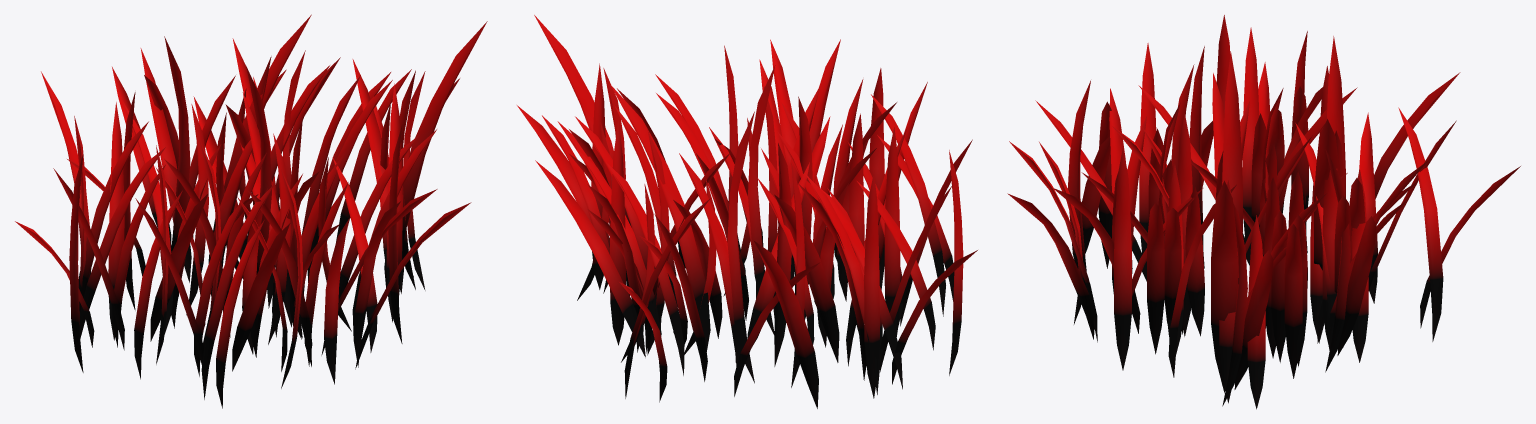
The model's file is SM_Grass_Sub_Short.fbx.
3 renders of one model, left to right at view 1: azimuth 30°, elevation 25°; view 2: azimuth 150°, elevation 25°; view 3: azimuth 270°, elevation 25°, orthographic. The views are drawn at different scales.
Parts seen in each view (by area): view 1: Plane015; view 2: Plane015; view 3: Plane015.
Boxes of the visible parts, x1,y1,x2,y2 form: Plane015: [15, 14, 487, 408]; Plane015: [517, 15, 977, 408]; Plane015: [1007, 15, 1520, 409].
Size of the model in its own units: 75.44 by 42.38 by 73.2.
